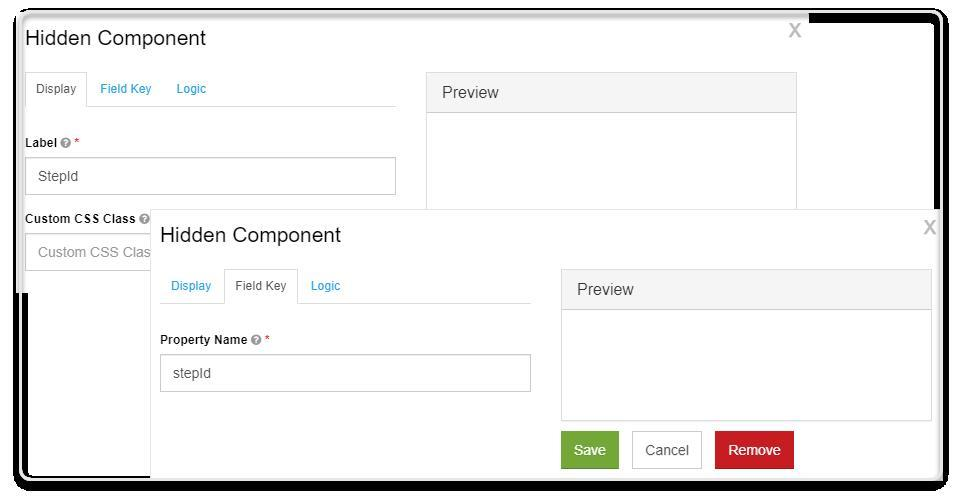button: (716, 431, 796, 470), (632, 432, 704, 470), (562, 431, 621, 470)
icon: (923, 215, 942, 240), (788, 20, 803, 41)
input: (27, 158, 396, 194), (162, 356, 532, 391)
label: (157, 330, 252, 347), (24, 132, 62, 154)
